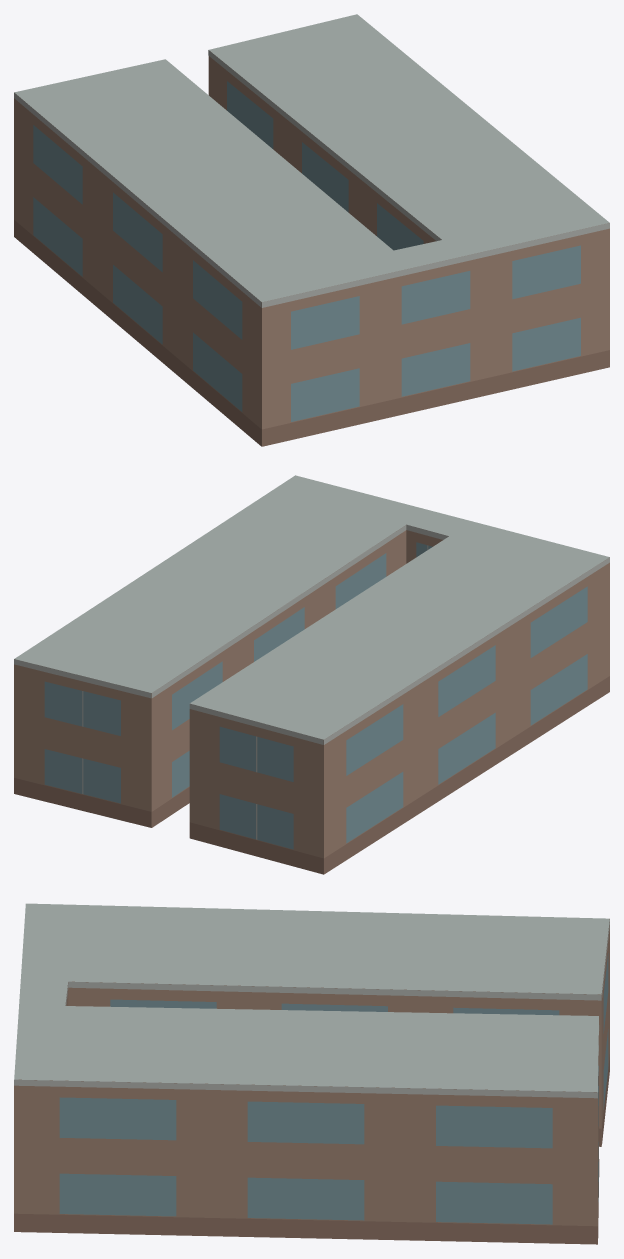
The model's file is survey-upis-32564564.glb.
3 views of the same model, one above another, from view 1: azimuth 30°, elevation 25°; view 2: azimuth 150°, elevation 25°; view 3: azimuth 270°, elevation 25° (orthographic). The views are drawn at different scales.
Parts seen in each view (by area): view 1: survey-upis-32564564.tmp; view 2: survey-upis-32564564.tmp; view 3: survey-upis-32564564.tmp.
Part boxes in pixels (box(x1,y1,x2,y2)): survey-upis-32564564.tmp: box(14, 14, 609, 446); survey-upis-32564564.tmp: box(14, 475, 609, 874); survey-upis-32564564.tmp: box(14, 903, 609, 1244).
Size of the model in its own units: 16.22 by 6.1 by 21.64.
